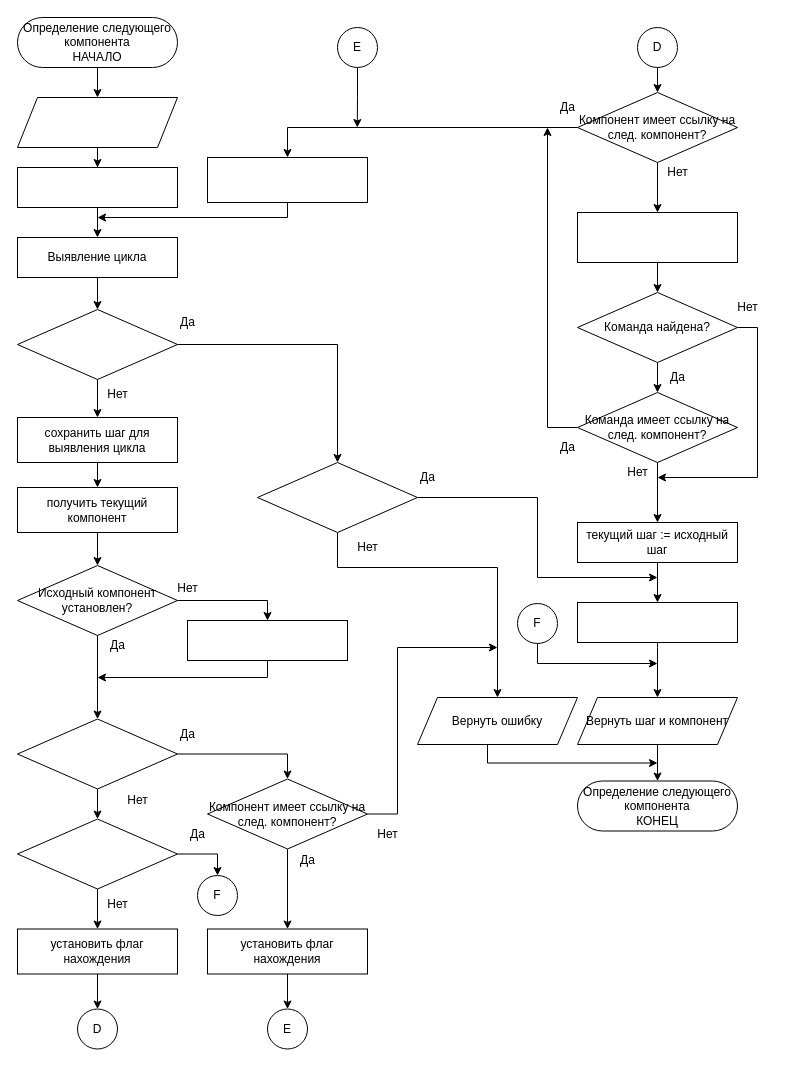
Image size: 785x1067. Some labels were removed from this diagram. Each missing label, with the box of its shape:
исходный компонент := текущий компонент: (186, 620, 348, 660)
Компонент стартовый?: (16, 718, 178, 789)
Поиск команды в компоненте по тексту сообщения: (576, 212, 738, 262)
Получение шаг пользователя и сообщение: (16, 96, 178, 148)
Сохранить шаг как исходный: (16, 166, 178, 208)
текущий компонент := исходный компонент: (576, 602, 738, 642)
текущий шаг := ссылка на след. компонент: (206, 156, 368, 202)
Текущий шаг = исходный шаг?: (256, 462, 418, 532)
Флаг нахождения установлен?: (16, 818, 178, 889)
Цикл выявлен?: (16, 308, 178, 380)
